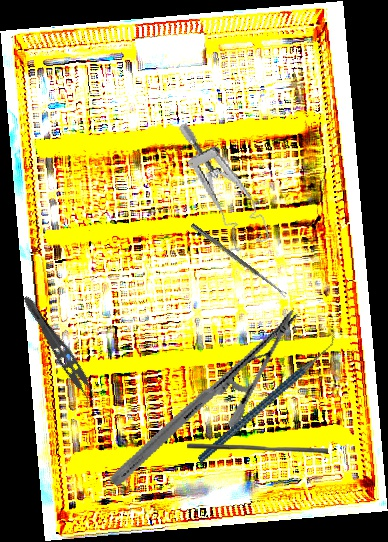Chopper: (172, 328, 361, 464)
Needle Holder: (107, 272, 302, 524)
Pusher: (187, 443, 328, 454)
Speculum: (177, 109, 271, 259)
Surgical Spoon: (190, 222, 288, 299)
Tissue Forceps: (13, 293, 104, 410)
